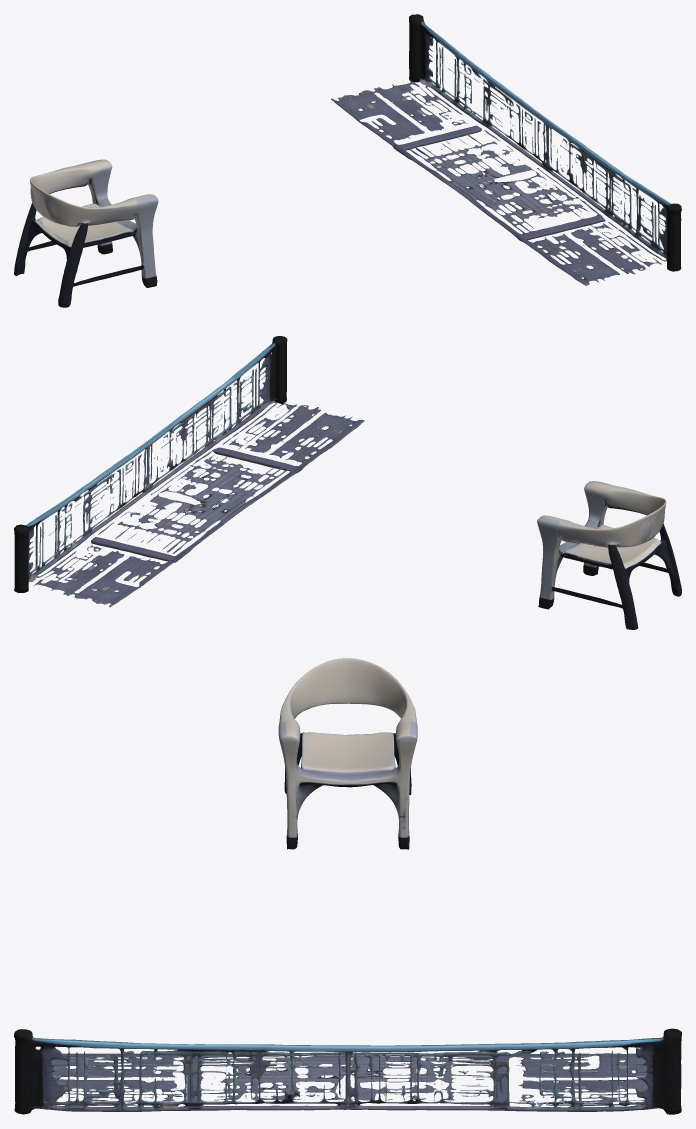
The model's file is tennis_court_environment_model_fbx.fbx.
3 views of the same model, one above another, from view 1: azimuth 30°, elevation 25°; view 2: azimuth 150°, elevation 25°; view 3: azimuth 270°, elevation 25° (orthographic). The views are drawn at different scales.
Visible parts, largest first — view 1: mesh_ed00; view 2: mesh_ed00; view 3: mesh_ed00.
Boxes of the visible parts, x1=… form: mesh_ed00: x1=14, y1=14, x2=681, y2=307; mesh_ed00: x1=14, y1=336, x2=681, y2=629; mesh_ed00: x1=14, y1=658, x2=681, y2=1114.
Bounding box in the file's own units: 5.8 × 1.2 × 5.17.
Materials: 1 (1 with a texture image).
